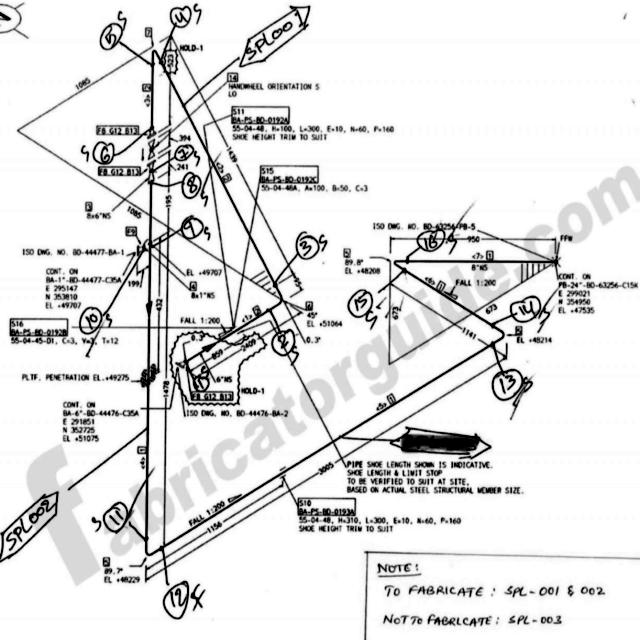Item number: (1, 486, 58, 549), (251, 4, 304, 52), (231, 103, 290, 125), (260, 163, 319, 184), (11, 316, 69, 337), (299, 496, 357, 517), (373, 562, 421, 578), (188, 389, 237, 404), (95, 123, 140, 137), (97, 165, 143, 177), (524, 261, 542, 280), (165, 48, 177, 76), (196, 360, 211, 378), (219, 164, 231, 184), (384, 389, 395, 408), (391, 303, 402, 321), (227, 70, 238, 84), (125, 225, 137, 237), (483, 249, 495, 261), (137, 442, 146, 456), (144, 25, 153, 38), (305, 299, 313, 313), (102, 555, 110, 568), (343, 247, 351, 259), (142, 81, 150, 93), (515, 324, 522, 337), (85, 199, 92, 210)
Measrement: (192, 79, 297, 281), (153, 484, 277, 571), (203, 315, 273, 365), (370, 219, 447, 232), (103, 566, 143, 584), (451, 277, 501, 289), (456, 324, 480, 343), (342, 265, 382, 276), (452, 220, 480, 234), (515, 335, 554, 345), (86, 211, 111, 220)
Pipeline: (328, 253, 506, 443), (393, 256, 507, 388)
Symbol: (487, 322, 509, 366), (388, 254, 413, 281), (136, 235, 154, 258), (145, 159, 157, 187), (547, 257, 562, 279), (149, 46, 162, 71)
Weld number: (489, 365, 525, 404), (160, 581, 191, 623), (1, 1, 28, 42), (508, 292, 542, 323), (102, 498, 130, 535), (345, 287, 374, 321), (270, 325, 297, 361), (294, 229, 323, 262), (178, 213, 210, 242), (98, 18, 124, 52), (77, 305, 103, 336), (415, 231, 445, 253), (90, 139, 115, 165), (169, 3, 192, 29), (180, 171, 201, 199), (172, 143, 197, 163)
other: (344, 458, 515, 498), (363, 577, 611, 601), (230, 118, 398, 145), (37, 261, 123, 311), (294, 513, 468, 535), (557, 271, 639, 317), (59, 398, 139, 445), (392, 426, 482, 455), (258, 178, 370, 195), (16, 370, 138, 385), (19, 243, 126, 259), (182, 404, 292, 419), (230, 79, 324, 96), (371, 215, 455, 232), (343, 258, 383, 276), (449, 276, 500, 289), (10, 337, 66, 345), (310, 319, 344, 329), (241, 386, 267, 396)
